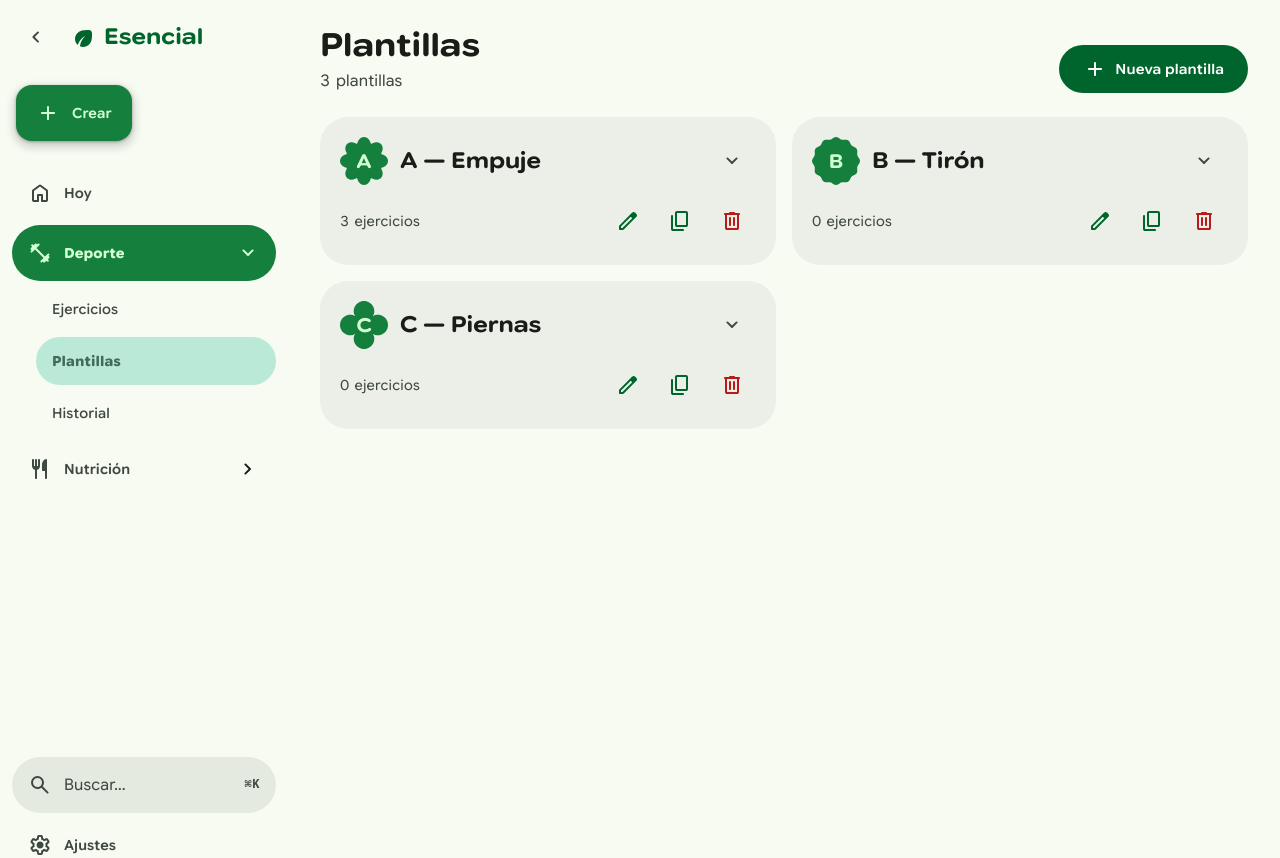
Test case: exercise picker › groups the exercises by muscle group, collapsed by default
Expected: the text "B — Tirón" is shown, [872, 147, 984, 174]
Click the 1st button named "Editar": (628, 221) [604, 197, 652, 245]
(page scrolled)
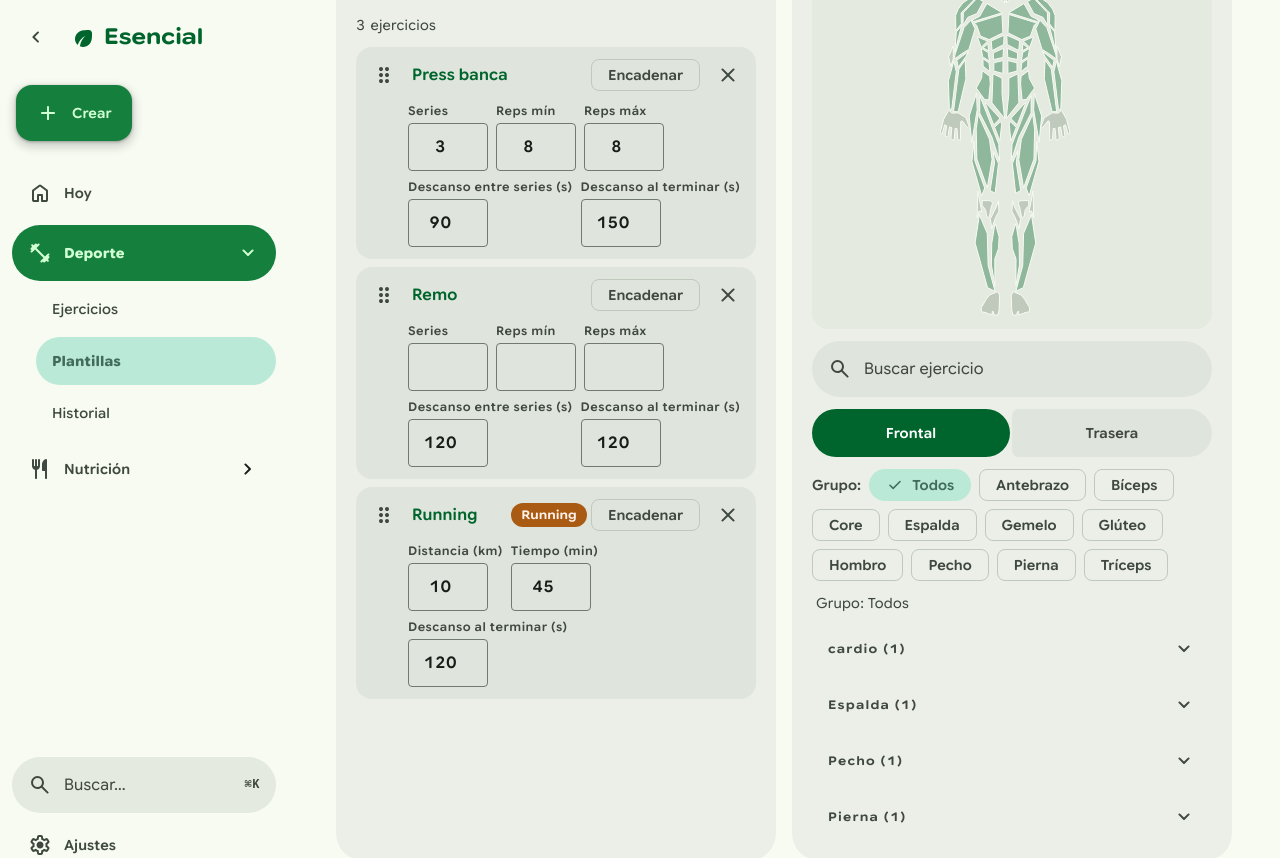
Result: the button "Pecho (1)" is shown
Result: the button "Espalda (1)" is shown at [812, 681, 1212, 729]
Result: the button "Pierna (1)" is shown at [812, 793, 1212, 841]
Click the button "Pecho (1)": (852, 760) [812, 737, 1212, 785]
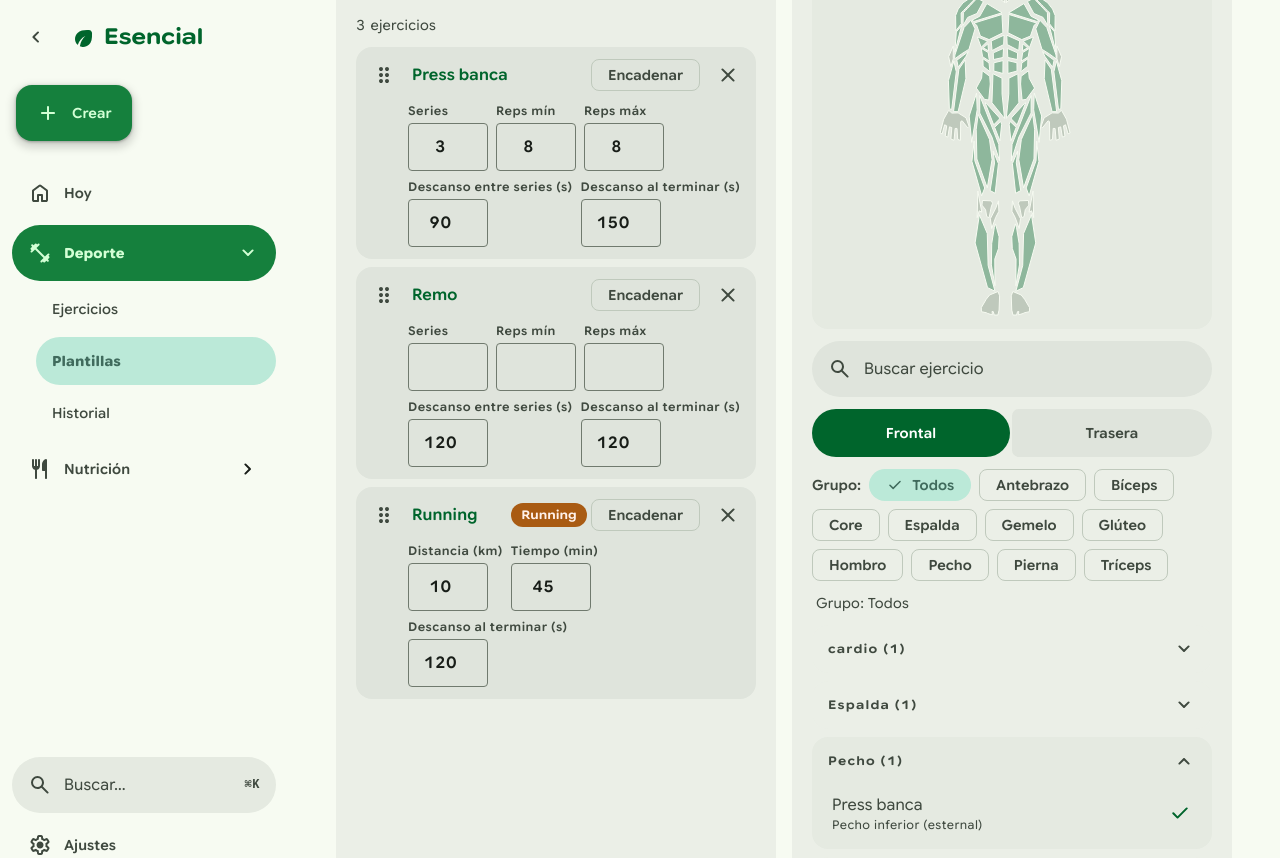
Result: the button "Press banca Pecho inferior (esternal)" is shown at [820, 785, 1204, 841]
